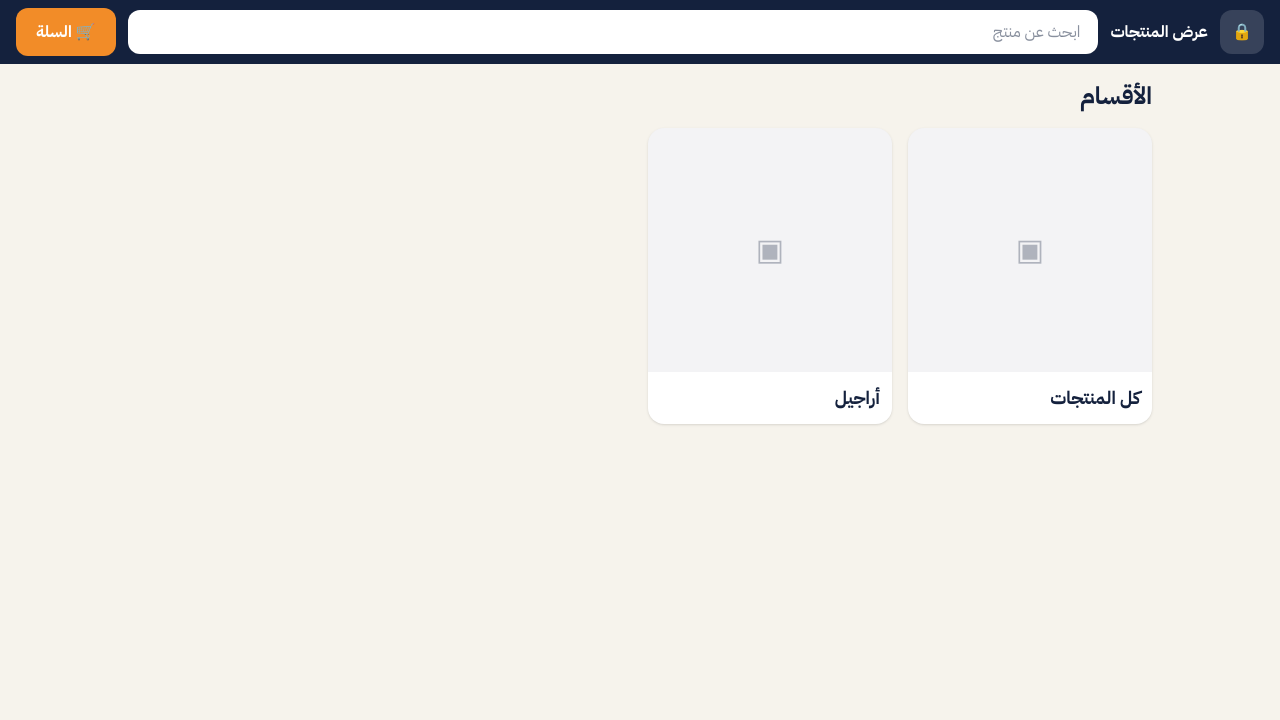
Test: presentation mode (customer-safe) › searching finds products and an empty search says so
Check: the text "أراجيل" is shown, box [835,384,880,411]
Type "لا يوجد" into the search field labelled "ابحث عن منتج".
click(613, 32); type("لا يوجد")  # box [128,10,1098,54]
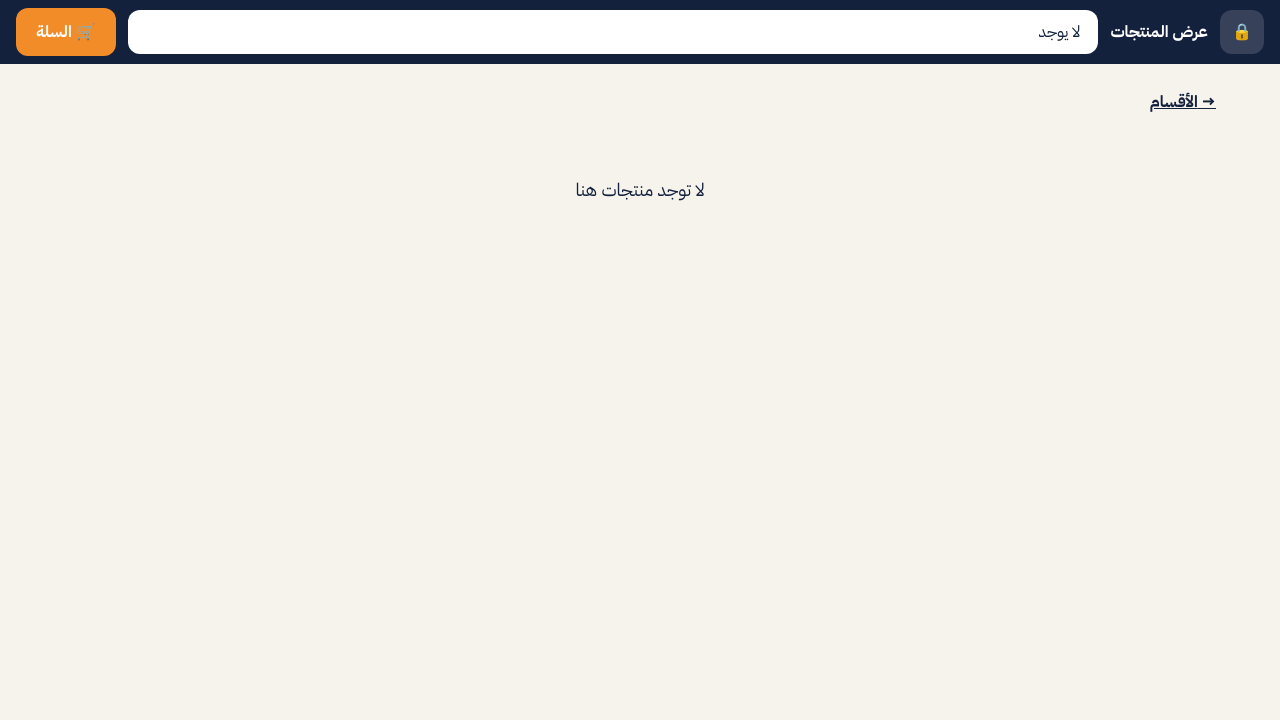
Check: the text "لا توجد منتجات هنا" is shown, box [575,176,705,203]
Replace the text in the search field named "ابحث عن منتج" with "ارجيله" at (613, 32), box [128,10,1098,54]
(page scrolled)
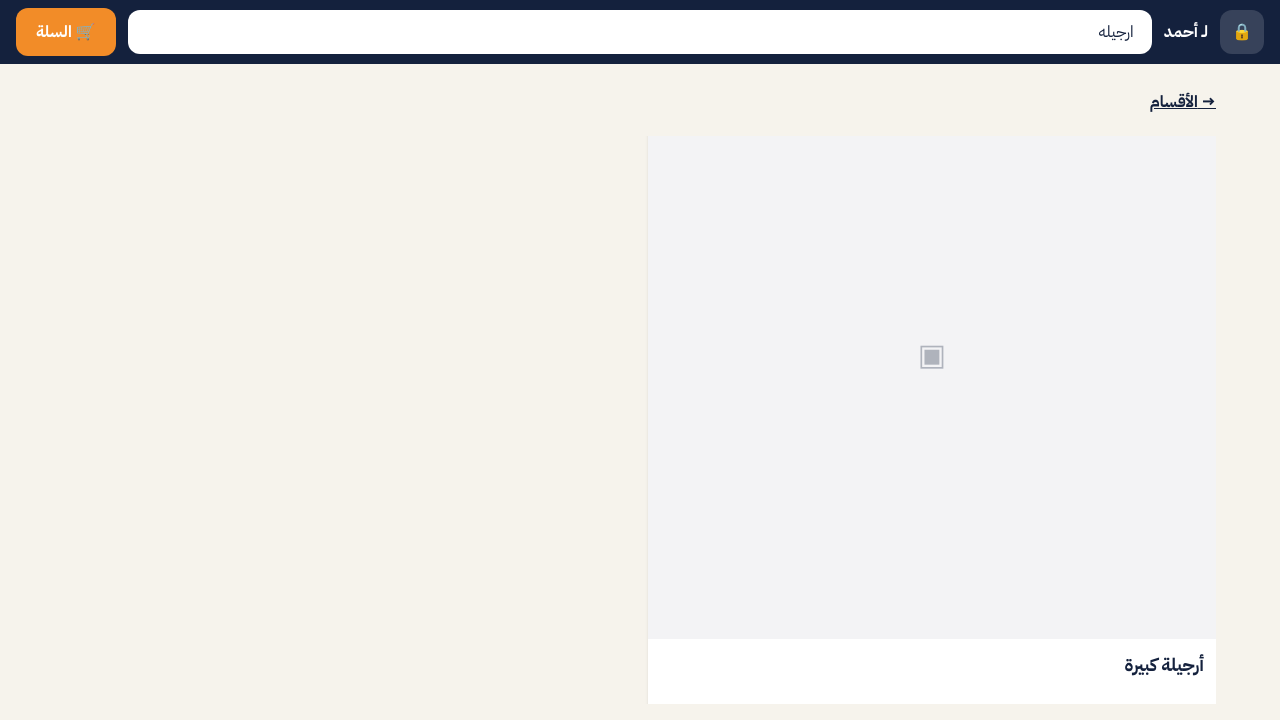
Check: the button "▣ أرجيلة كبيرة ₪ 45.00 – ₪ 50.00 ● متوفر" is shown, box [648,136,1216,704]
